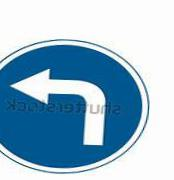left: (1, 38, 150, 173)
